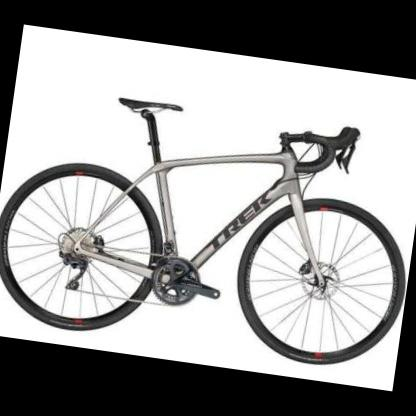Bicycle: (3, 84, 410, 356)
